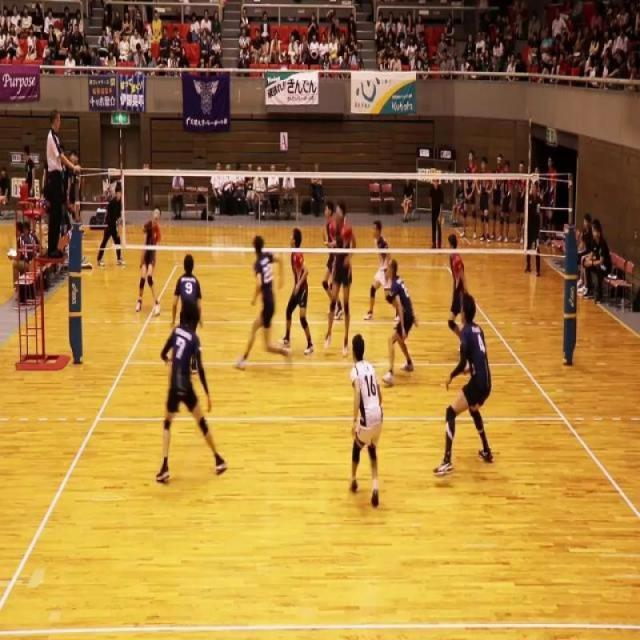volleyball: (218, 0, 226, 7)
